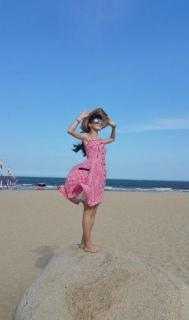sling: (59, 134, 107, 207)
